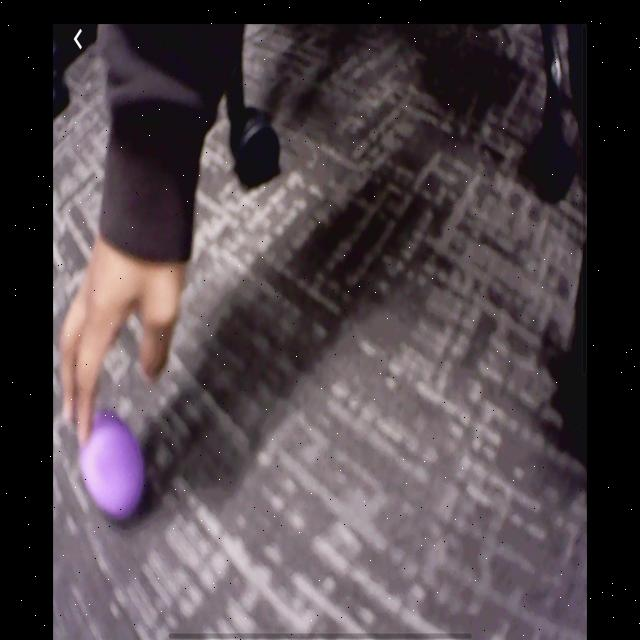ball: (77, 408, 147, 523)
